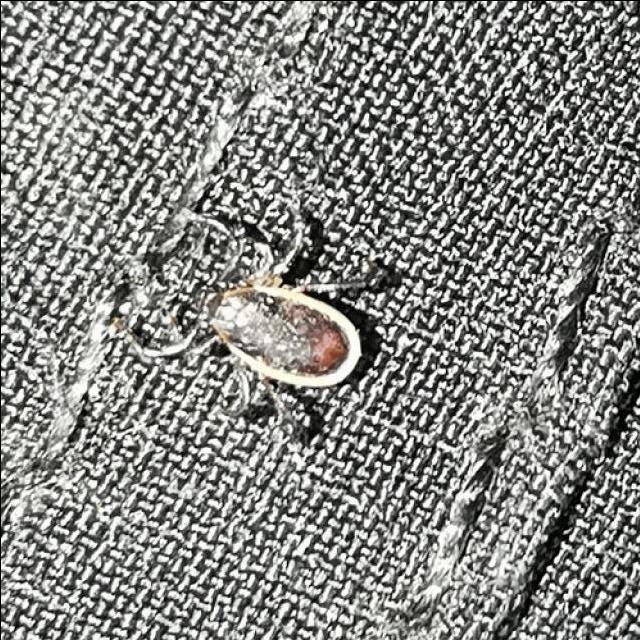Ixodes Ricinus-M: (141, 205, 367, 421)
